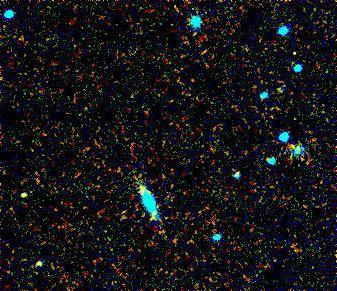star: (285, 37, 315, 67)
